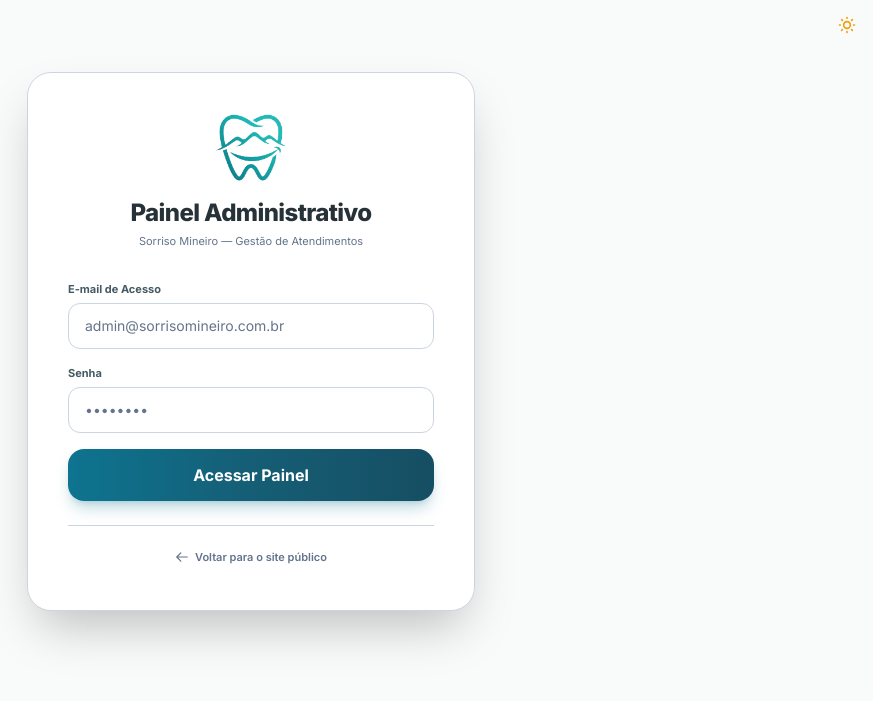
LoginPage › deve exibir mensagem de erro visual quando a autenticação falhar
In the field labelled "E-mail de Acesso": {"x": 251, "y": 326} [68,302,434,348], type "admin@clinica.com"
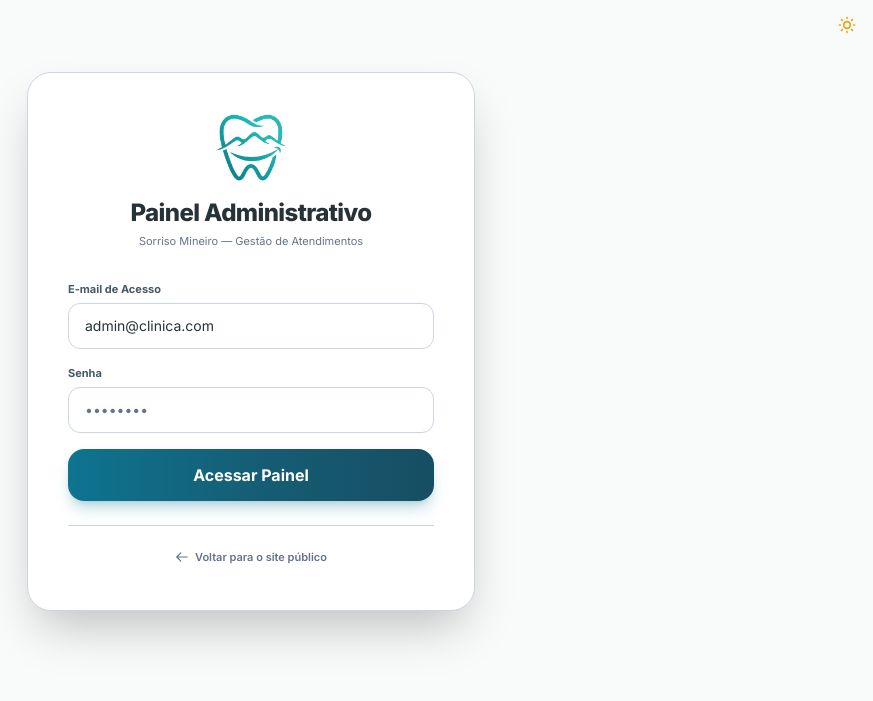
In the password field labelled "Senha": {"x": 251, "y": 410} [68,386,434,432], type "senha-errada"
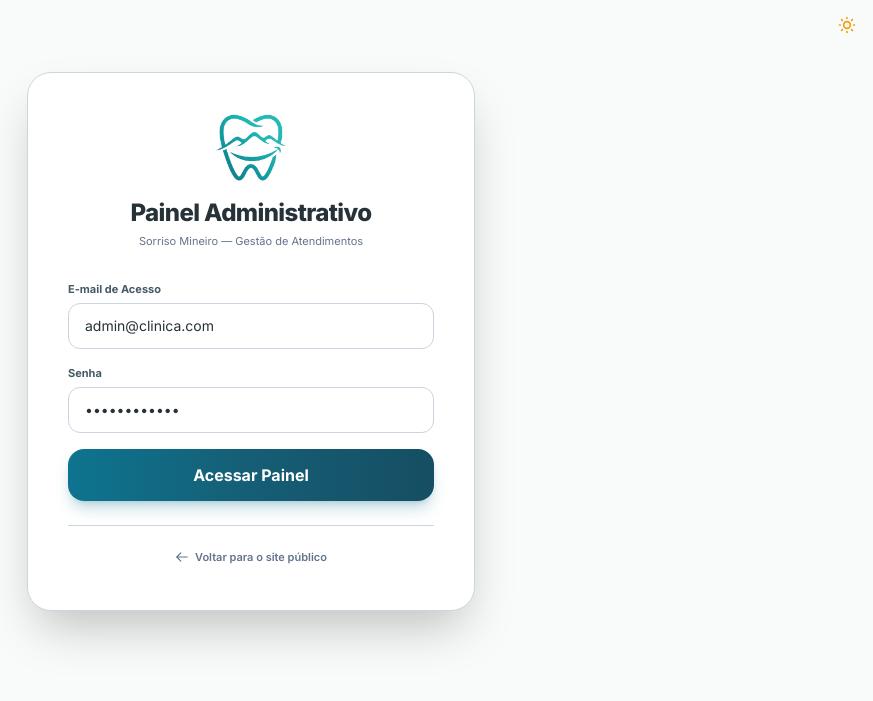
Click the button "Acessar Painel": {"x": 251, "y": 474} [68,448,434,500]
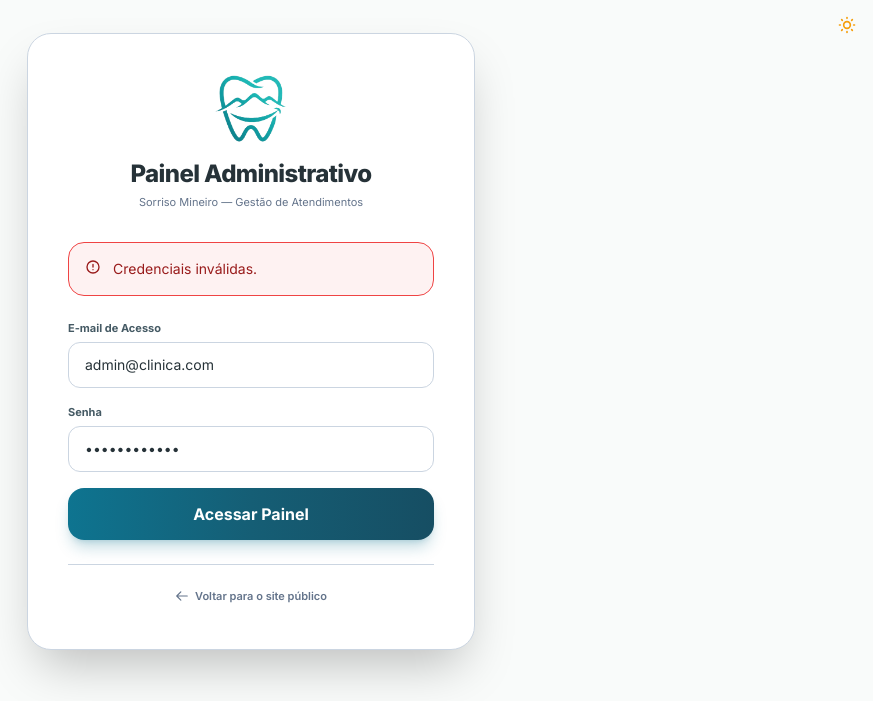
Expected: the text "Credenciais inválidas." is shown, [113,260,257,276]
